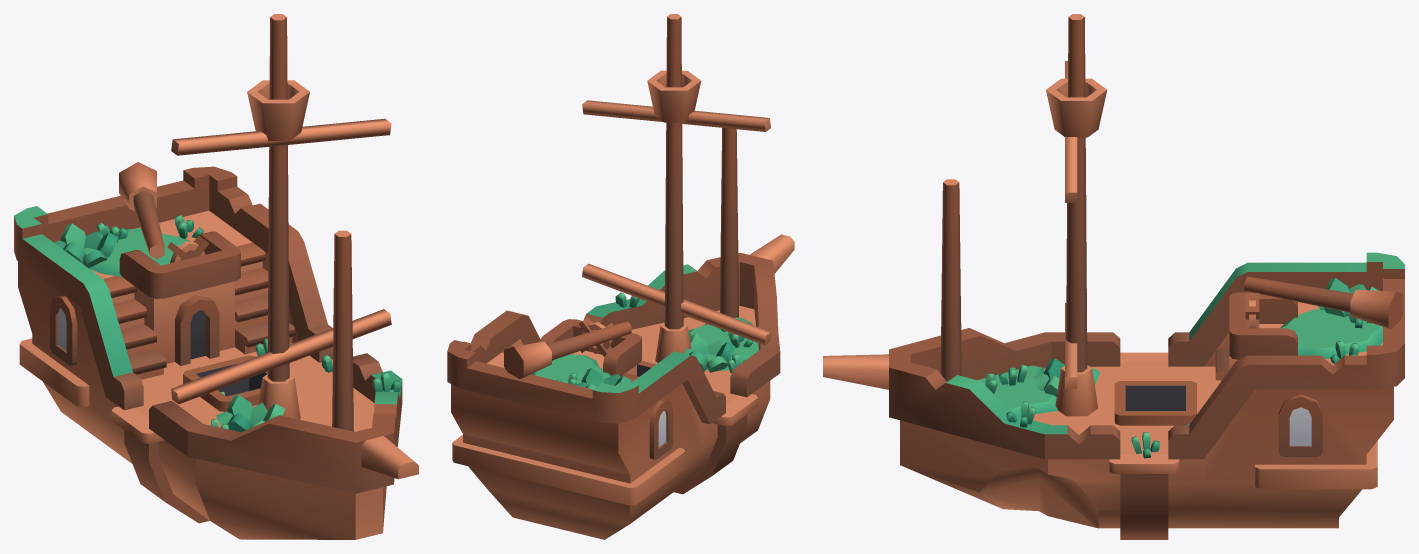
The model's file is epave-corne.glb.
3 views of the same model, side by side, from view 1: azimuth 30°, elevation 25°; view 2: azimuth 150°, elevation 25°; view 3: azimuth 270°, elevation 25° (orthographic). The views are drawn at different scales.
Parts seen in each view (by area): view 1: ship-wreck; view 2: ship-wreck; view 3: ship-wreck.
Boxes of the visible parts, x1=… form: ship-wreck: x1=14, y1=14, x2=418, y2=539; ship-wreck: x1=447, y1=14, x2=794, y2=539; ship-wreck: x1=823, y1=14, x2=1404, y2=539.
Size of the model in its own units: 7.24 by 15.04 by 16.
Materials: 1 (1 with a texture image).
